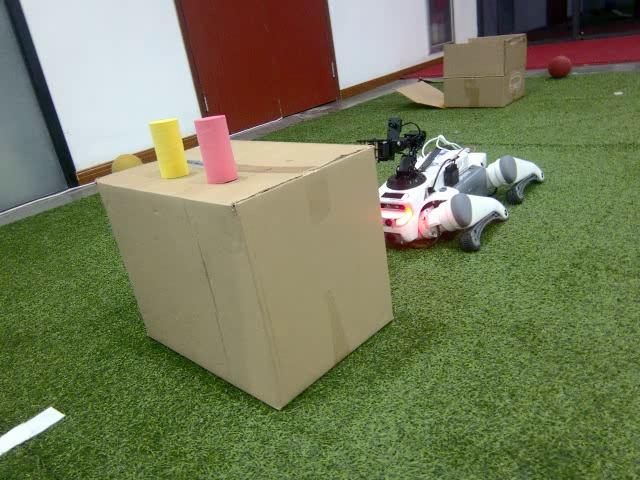red_ball: (547, 54, 573, 79)
red_cylinder: (192, 112, 242, 186)
yellow_cylinder: (147, 116, 192, 181)
